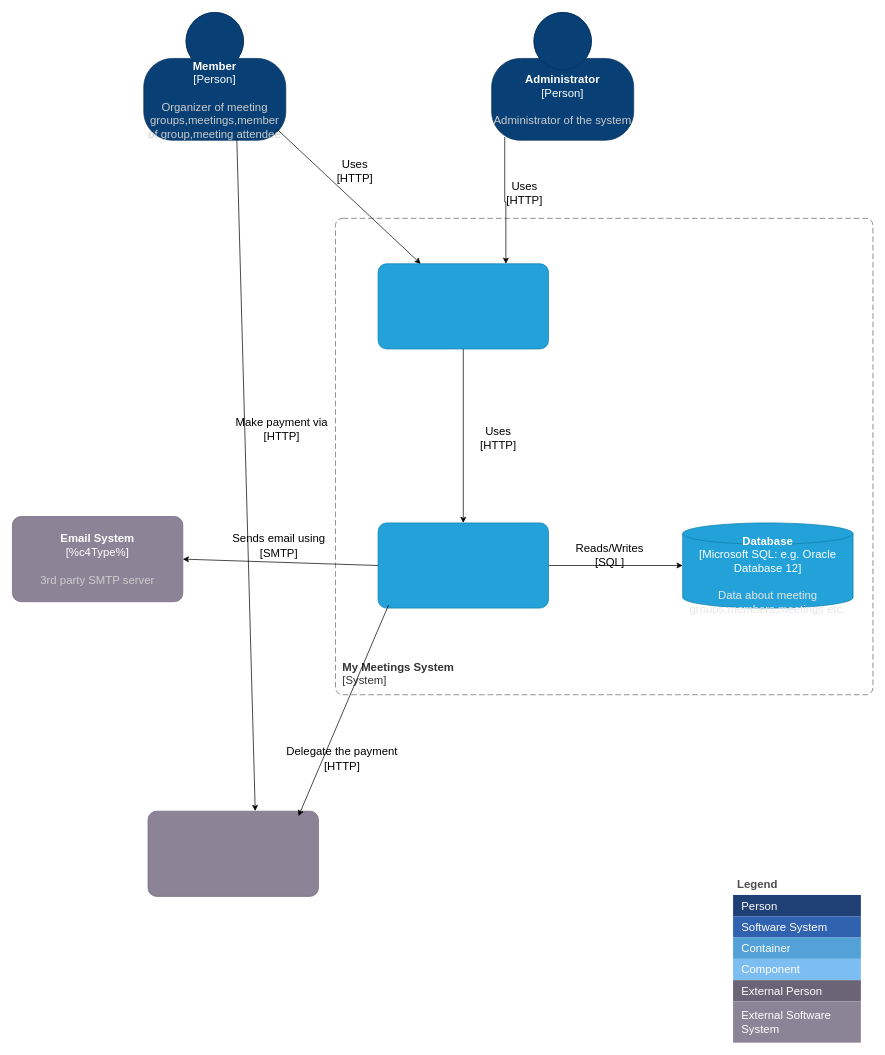
The diagram is 885 pixels wide and 1055 high, and some of its shapes have lost their labels. The shapes that lost their labels are listed below. From the top down, each one's box as (x1, y1, x2, y2) in pixels, then its label:
(377, 263, 548, 349): SPA [ReactJS: e.g. SpringBoot, ElasticSearch, etc.] GUI for the application
(377, 522, 548, 608): My Meetings API [.NET Core: e.g. SpringBoot, ElasticSearch, etc.] Backend
(147, 810, 318, 896): Payment Gateway [%c4Type%] 3rd party payment service
